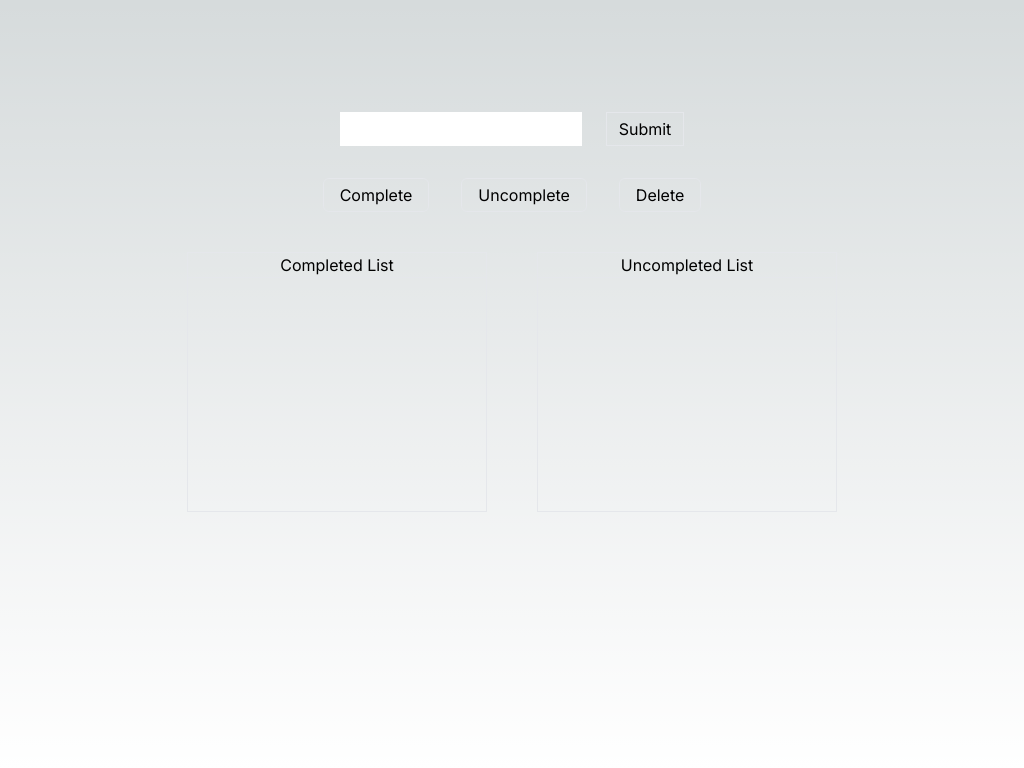
Home › should add a new to do
This screenshot has width=1024, height=768.
Type "New to do" into the field with test id "to-do-input".
click(461, 129); type("New to do")  # box [340,112,582,146]
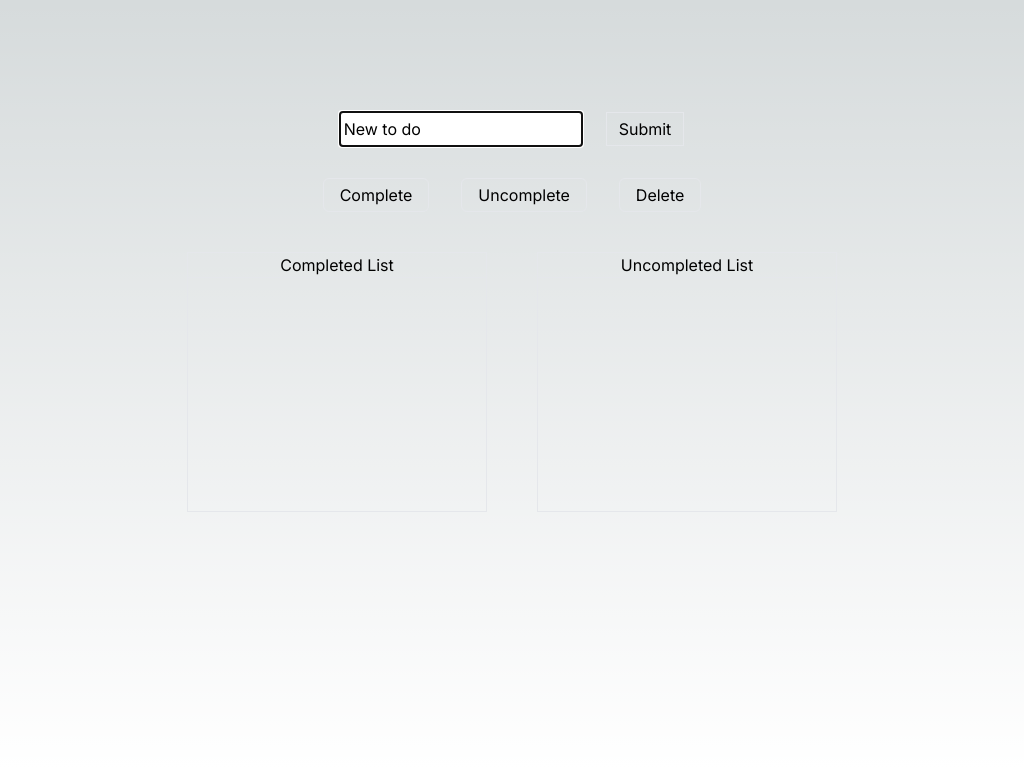
Click the button with test id "submit-button".
click(645, 129)  # box [606,112,684,146]
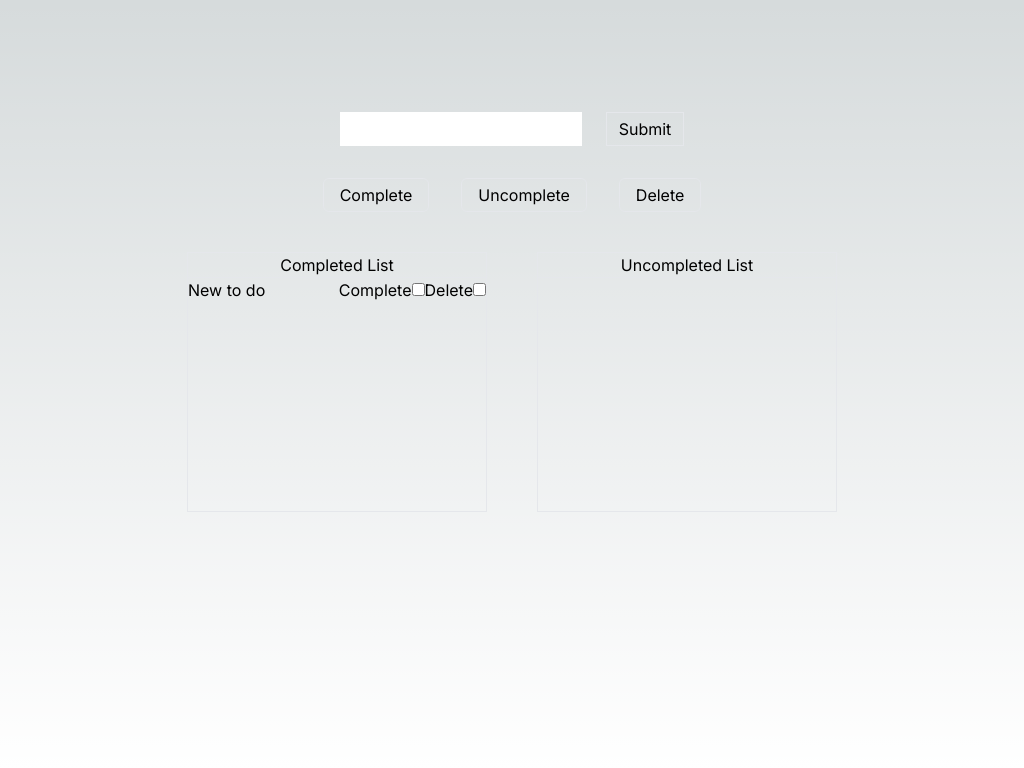
Expected: the field with test id "to-do-input" is empty, [340,112,582,146]
Expected: the list with test id "uncompleted-list" shows "New to do", [188,280,265,300]
